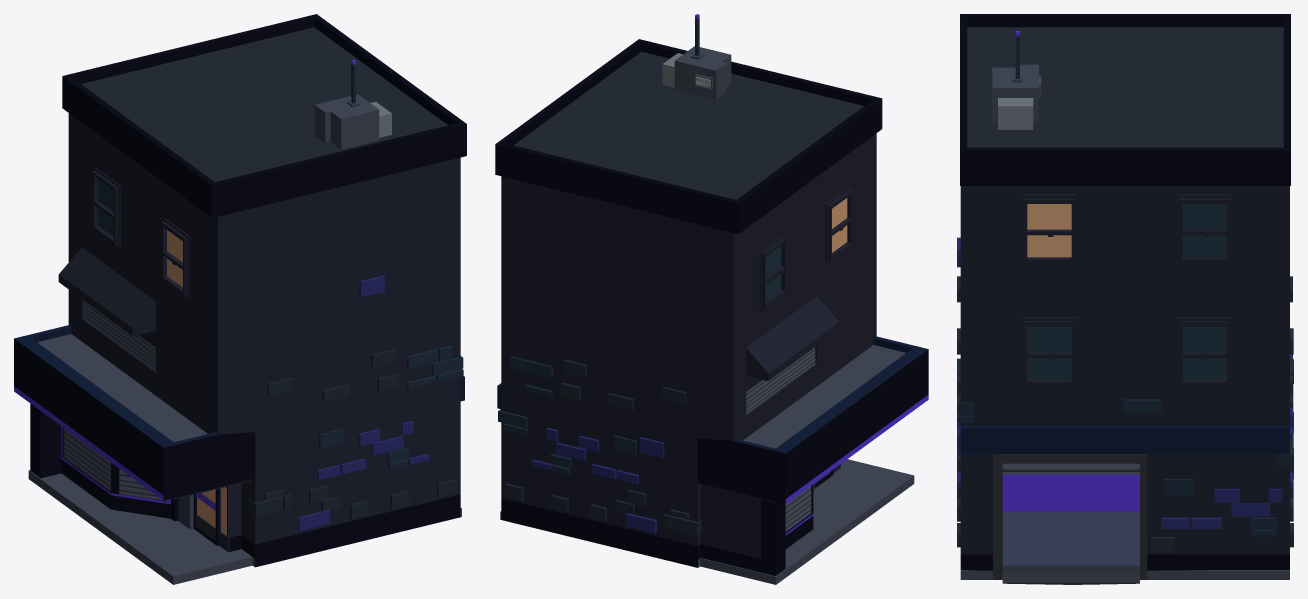
The model's file is Building_SnackHouse.fbx.
3 views of the same model, side by side, from view 1: azimuth 30°, elevation 25°; view 2: azimuth 150°, elevation 25°; view 3: azimuth 270°, elevation 25° (orthographic). The views are drawn at different scales.
Parts seen in each view (by area): view 1: Cube.614, Cube.623; view 2: Cube.614; view 3: Cube.614, Cube.619.
Part boxes in pixels (x1,y1,x2,y2): Cube.614: (14,14,466,584); Cube.623: (193,488,218,545); Cube.614: (495,14,928,584); Cube.614: (957,14,1293,584); Cube.619: (1002,463,1139,474).
Size of the model in its own units: 700 by 998 by 604.
